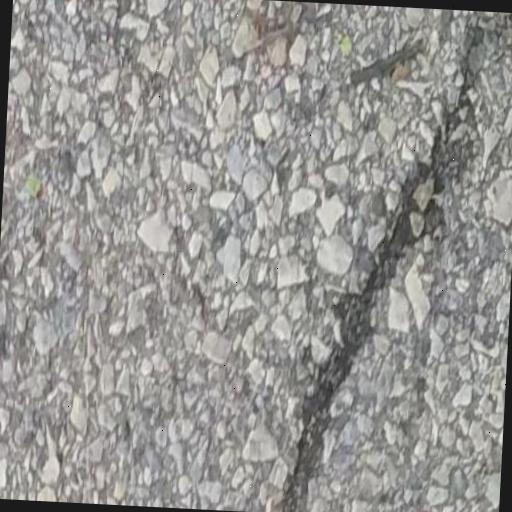spalling: (276, 23, 501, 512)
